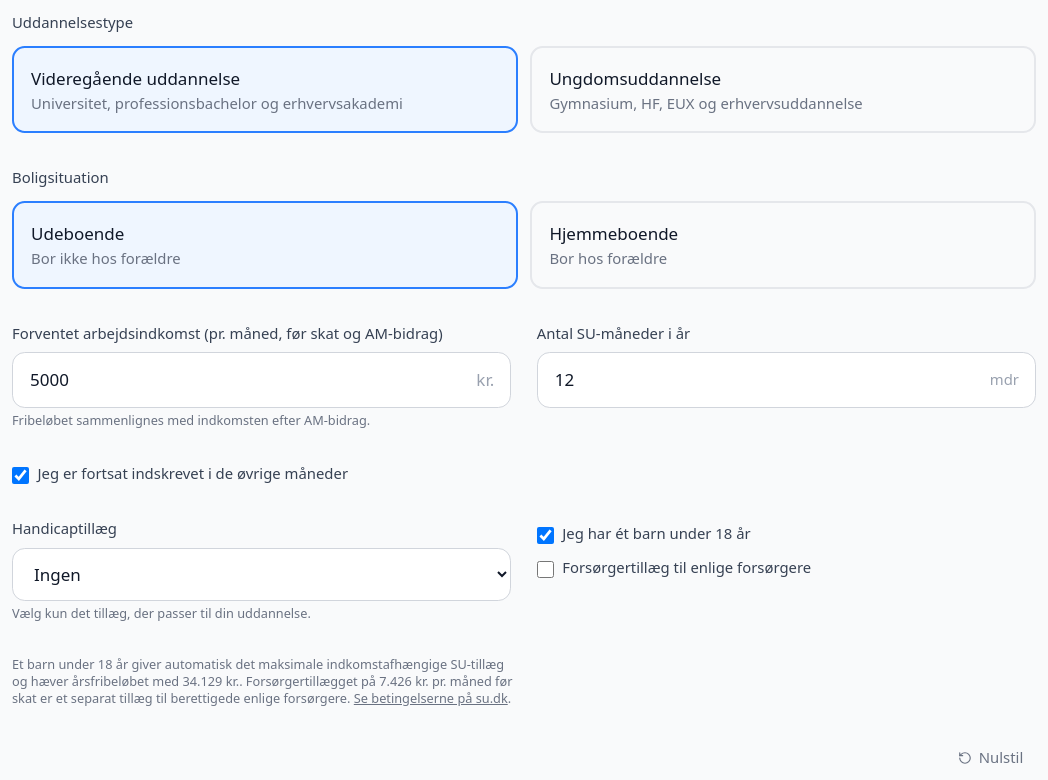
SUBeregner › rydder både delestaten og URL ved nulstilling
Expected: the checkbox labelled "Jeg har ét barn under 18 år" is checked, [537,527,554,544]
Click the button "Nulstil" at (991, 758), box [946,741,1036,775]
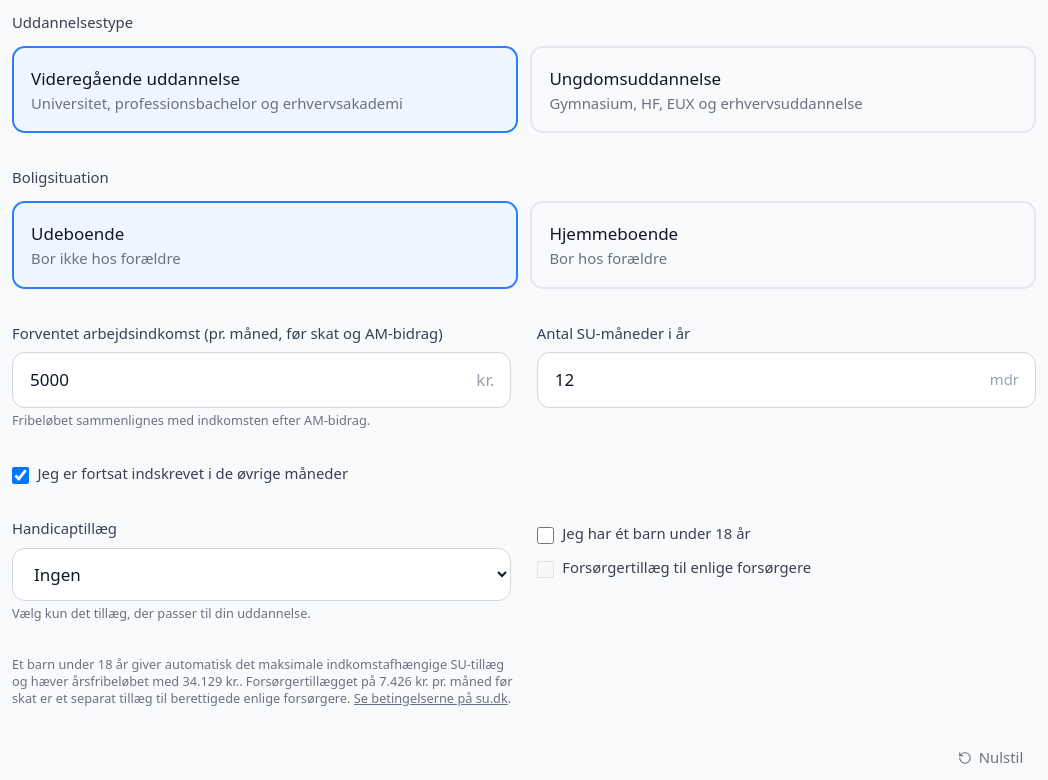
Expected: the checkbox labelled "Jeg har ét barn under 18 år" is not checked, [537,527,554,544]
